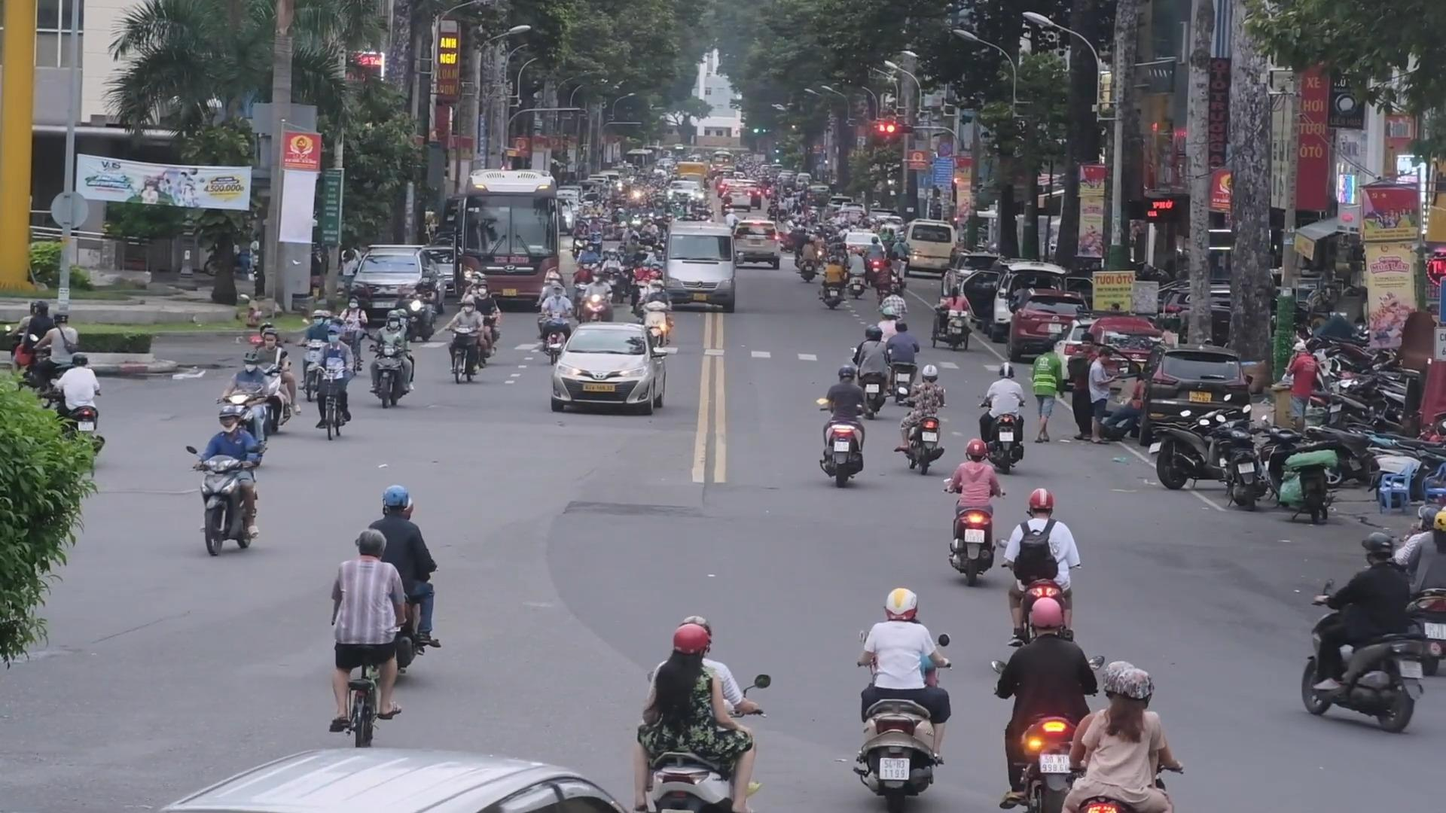bicyclist: (328, 528, 408, 747), (307, 325, 355, 440)
driver: (634, 616, 771, 813), (1301, 532, 1429, 733), (990, 596, 1105, 813), (856, 586, 952, 813), (1061, 661, 1184, 813), (995, 488, 1083, 647), (186, 405, 262, 555), (942, 438, 1006, 586), (819, 365, 872, 487), (50, 352, 105, 461), (895, 365, 948, 475), (978, 361, 1027, 474), (368, 308, 415, 408), (850, 324, 893, 420), (443, 294, 484, 384), (885, 319, 919, 405)
helmet: (1113, 668, 1155, 711), (674, 624, 711, 667), (1029, 596, 1064, 637), (883, 587, 918, 621), (1362, 532, 1394, 567), (1026, 488, 1054, 519), (383, 485, 408, 516), (219, 405, 241, 434), (965, 438, 988, 462), (243, 350, 259, 373), (838, 365, 856, 382), (922, 365, 938, 383), (387, 310, 401, 330), (72, 352, 88, 368), (53, 310, 69, 326), (999, 362, 1014, 379), (868, 326, 883, 342), (895, 319, 907, 332)
no-helmet: (358, 527, 386, 561), (1098, 347, 1113, 366), (1080, 333, 1094, 352), (327, 325, 341, 343)
